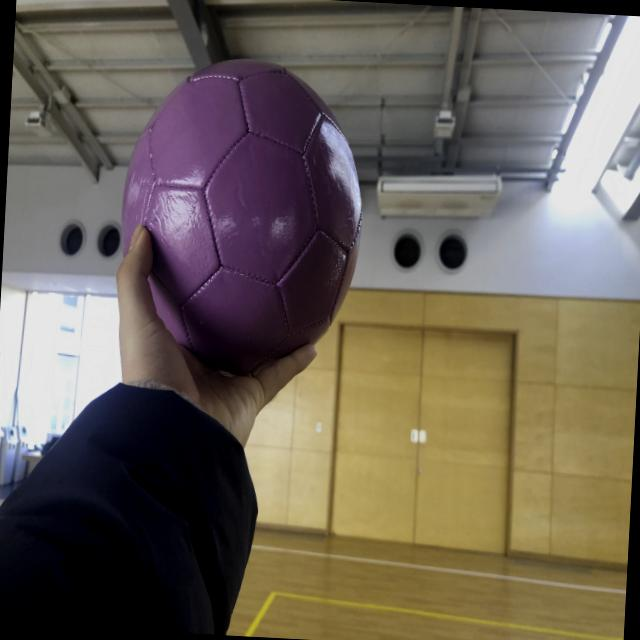purple_ball: (114, 53, 370, 380)
